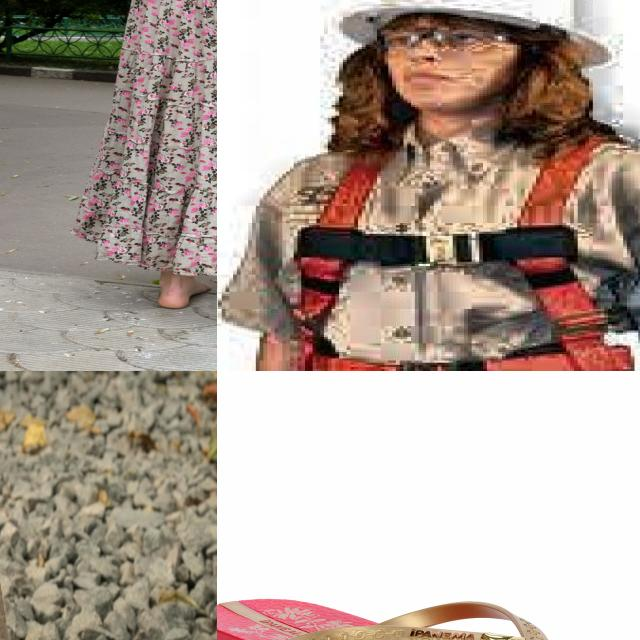Barefoots: (158, 278, 212, 308)
Harness: (289, 129, 630, 371)
Sandals: (217, 596, 640, 640)
